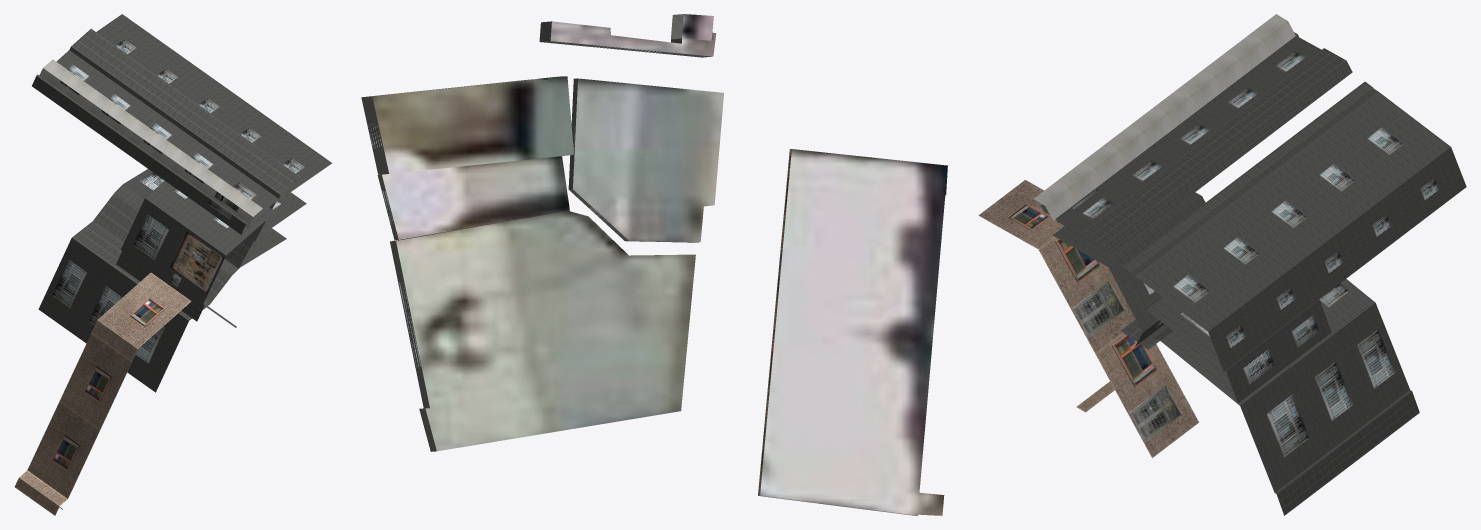
3 renders of one model, left to right at view 1: azimuth 30°, elevation 25°; view 2: azimuth 150°, elevation 25°; view 3: azimuth 270°, elevation 25°, orthographic. The views are drawn at different scales.
Size of the model in its own units: 24.19 by 24.61 by 24.38.
Materials: 24 (24 with a texture image).
